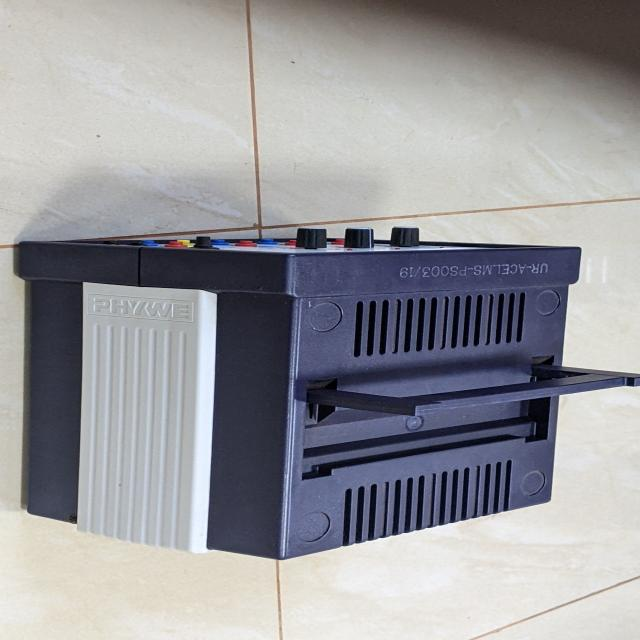Netzgerat Universal Power Supply: (12, 218, 640, 558)
